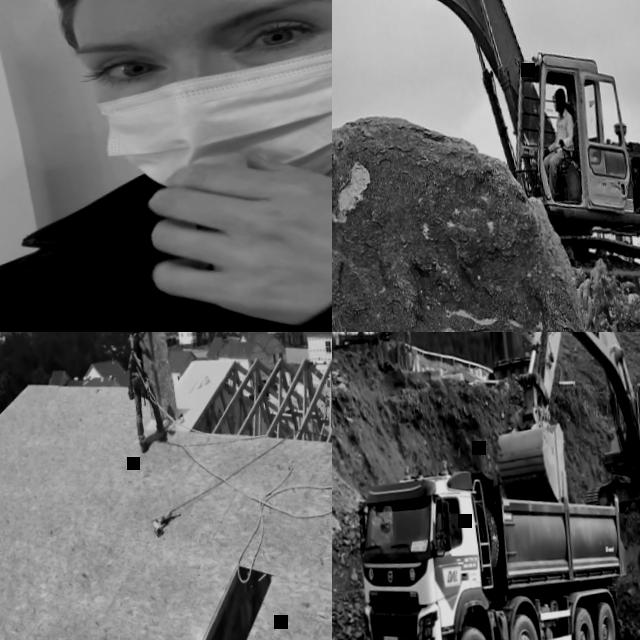machinery: (332, 0, 640, 332), (344, 436, 640, 640), (471, 332, 640, 533), (332, 332, 420, 382)
mask: (84, 2, 332, 211)
no_helmet: (552, 85, 566, 102)
no_mask: (554, 103, 566, 115)
no_vest: (0, 159, 332, 332), (552, 114, 574, 150), (126, 333, 144, 375), (438, 524, 454, 539)
person: (0, 0, 332, 332), (121, 332, 169, 454), (532, 84, 582, 200), (428, 508, 456, 544)
